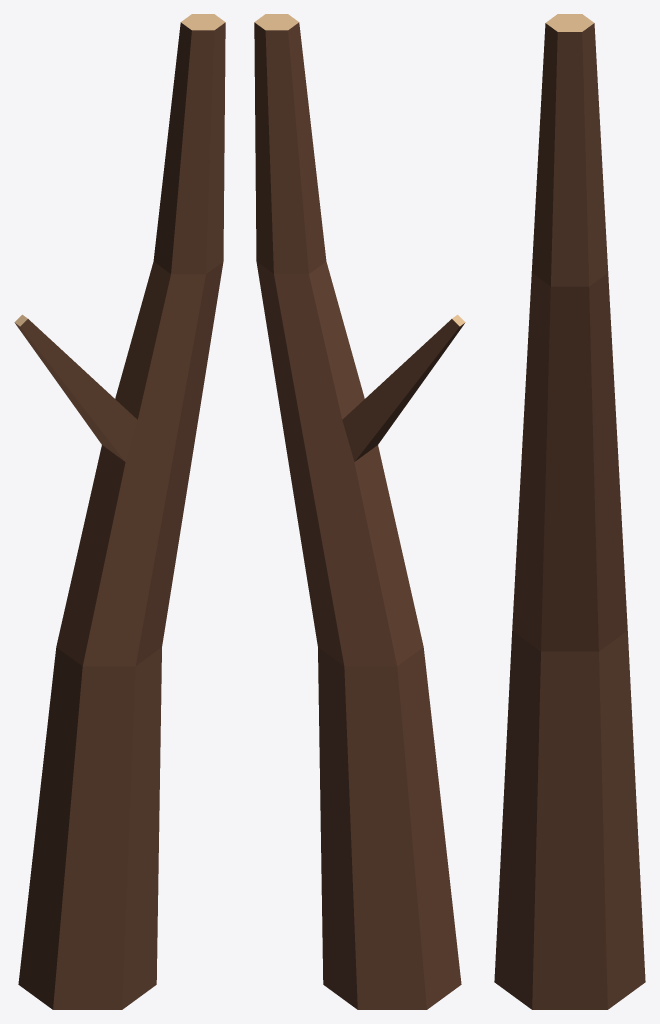
Rendered from stick.fbx.
3 renders of one model, left to right at view 1: azimuth 30°, elevation 25°; view 2: azimuth 150°, elevation 25°; view 3: azimuth 270°, elevation 25°, orthographic. The views are drawn at different scales.
Parts seen in each view (by area): view 1: stick; view 2: stick; view 3: stick.
Part boxes in pixels (x1=…): stick: x1=14, y1=14, x2=225, y2=1009; stick: x1=254, y1=14, x2=465, y2=1009; stick: x1=494, y1=14, x2=645, y2=1009.
Size of the model in its own units: 13.39 by 58.94 by 7.91.
